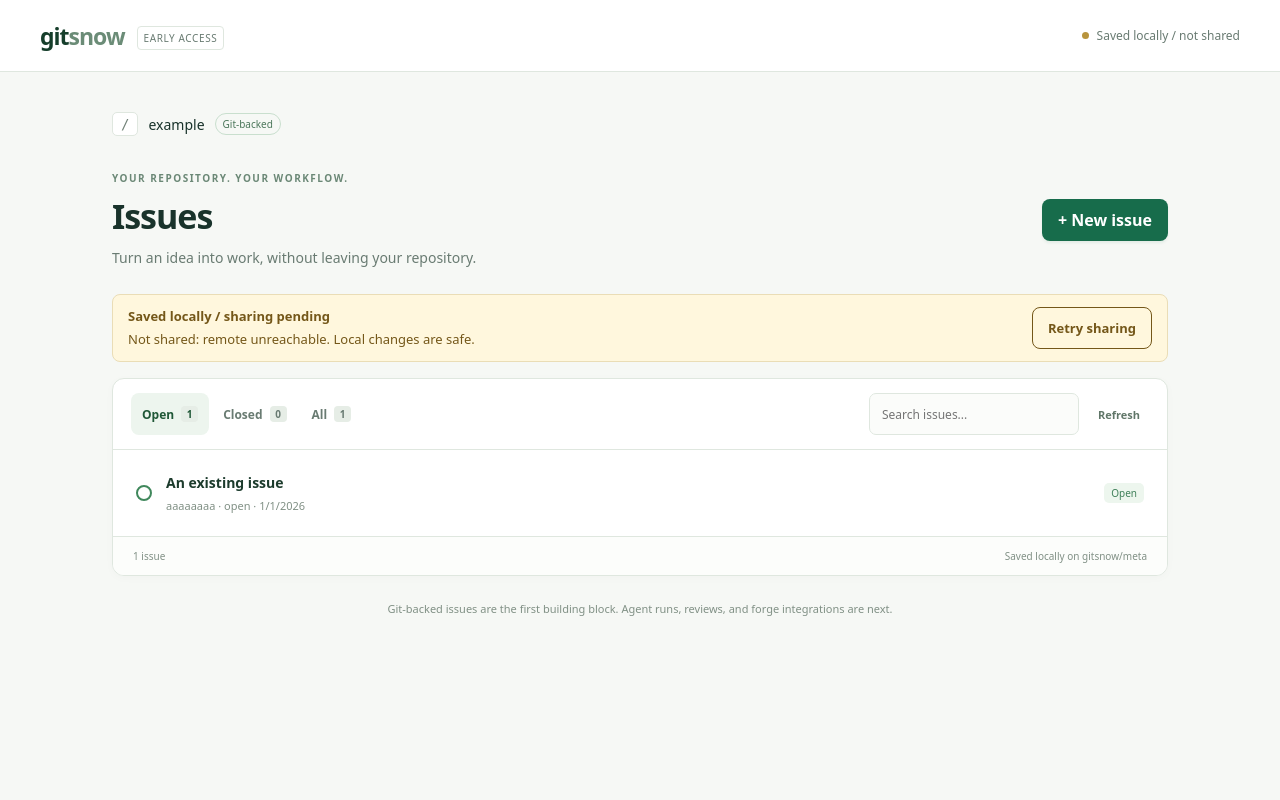
Scenario: issue workflow › shows remote failure without disabling local issue creation, and queues a sharing retry
Expected: the text "Not shared: remote unreachable. Local changes are safe." is shown, left=128, top=330, right=475, bottom=349
Expected: the button "+ New issue" is enabled, left=1042, top=199, right=1168, bottom=241
Click the button "Retry sharing": (1092, 328) left=1032, top=307, right=1152, bottom=349
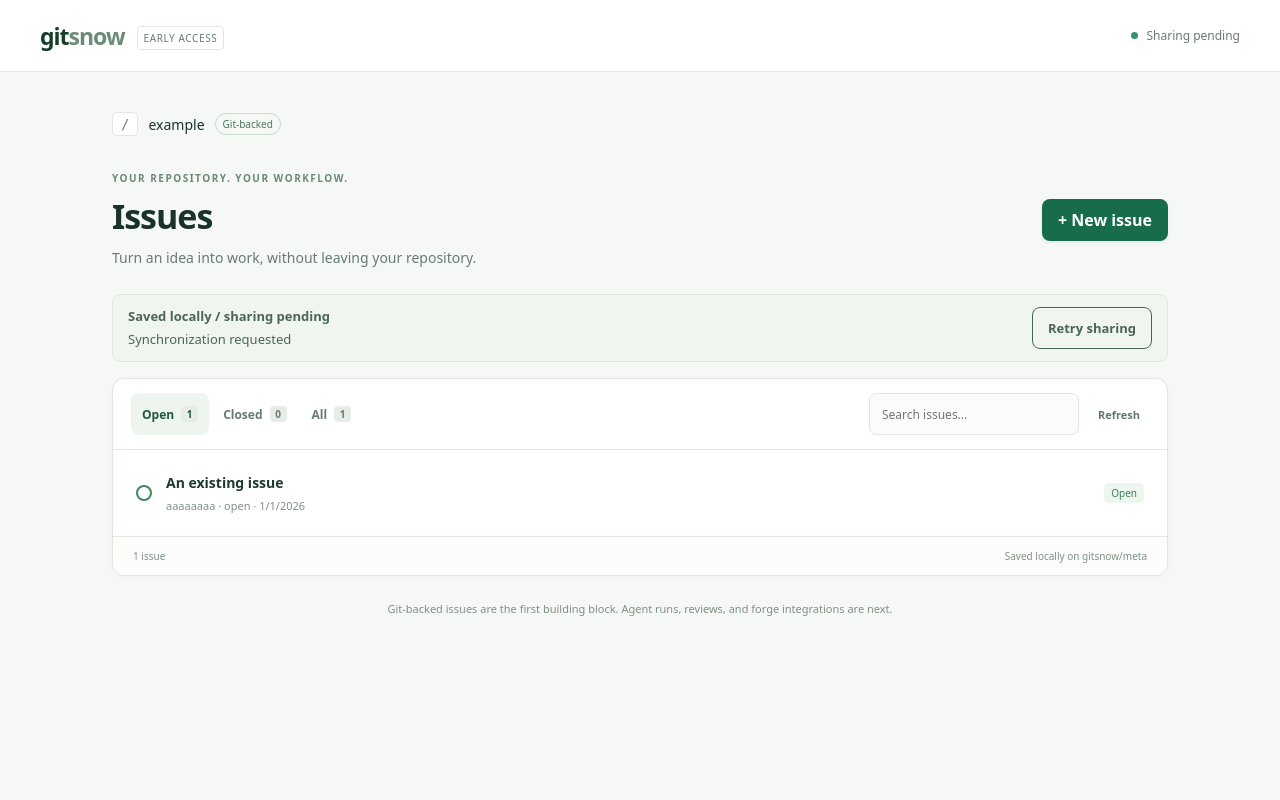
Expected: the text "Synchronization requested" is shown, left=128, top=330, right=291, bottom=348
